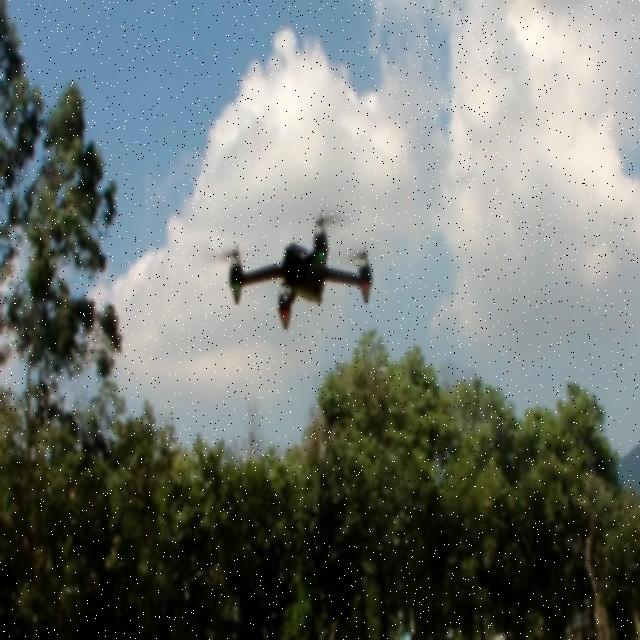UAV: (221, 209, 375, 333)
